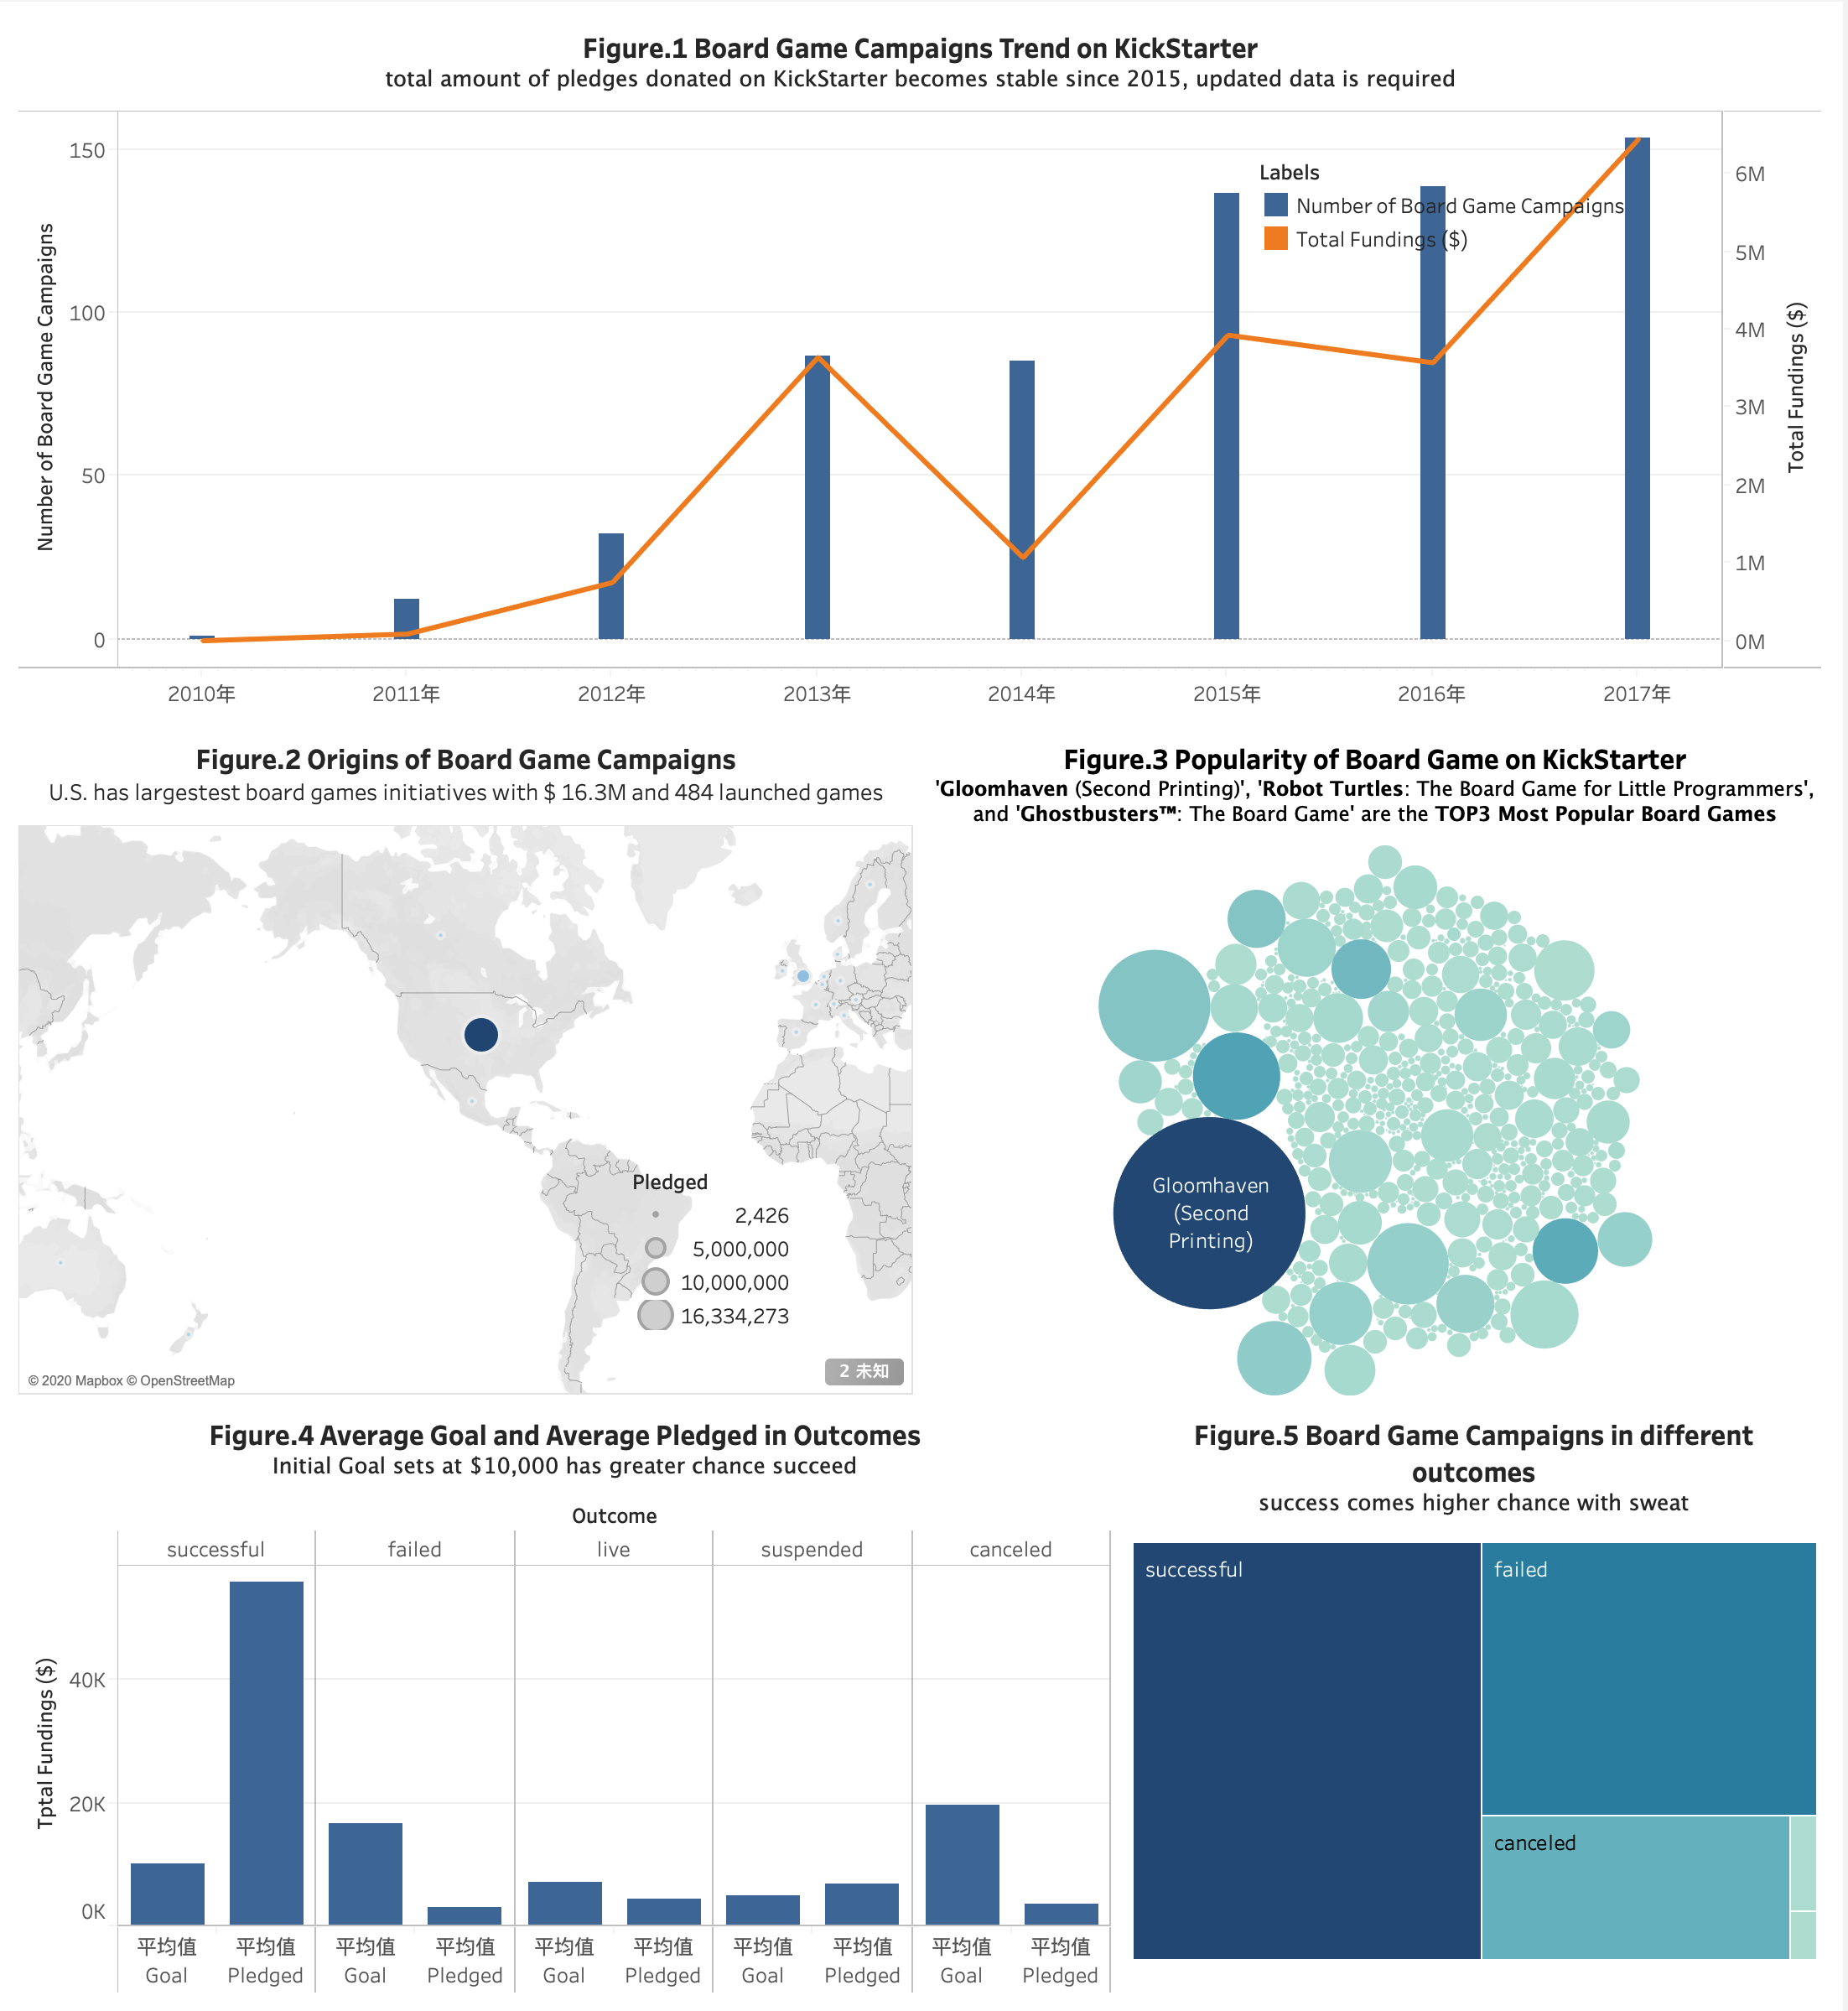

The page's visual inventory and layout, read from the dashboard file:
{"tool":"tableau","page":{"name":"仪表板 1","canvas":[1100,1200],"ordinal":0},"visuals":[{"type":"worksheet","title":"Figure.1 Board Game Campaigns Trend on KickStarter","mark":"Automatic","rows":["Number of Records","pledged"],"cols":["launched"],"box":[8,8,1084,424]},{"type":"legend","title":"Figure.1 Board Game Campaigns Trend on KickStarter","param":"[federated.14u743d0wkjz3q0zyr7fn1nt0qwb].[:Measure Names]","box":[752.4,93,245.3,87]},{"type":"worksheet","title":"Figure.2 Origins of Board Game Campaigns","mark":"Automatic","box":[8,432,542,403]},{"type":"worksheet","title":"Figure.3 Popularity of Board Game on KickStarter","mark":"Circle","box":[550,432,542,403]},{"type":"legend","title":"Figure.2 Origins of Board Game Campaigns","param":"[federated.14u743d0wkjz3q0zyr7fn1nt0qwb].[sum:pledged:qk]","box":[378,695,115,122]},{"type":"worksheet","title":"Figure.4 Average Goal and Average Pledged in Outcomes","mark":"Automatic","cols":["outcome"],"box":[8,835,660,357]},{"type":"worksheet","title":"Figure.5 Board Game Campaigns in different outcomes","mark":"Automatic","box":[668,835,424,357]}]}

Visuals, with their boxes in screenshot pixels (x1, y1, x2, y2), scaled from the page's 1100x1200 canvas onto the 1848x2011 screenshot:
"Figure.1 Board Game Campaigns Trend on KickStarter" worksheet: [13,13,1835,724]
"Figure.1 Board Game Campaigns Trend on KickStarter" legend: [1264,156,1676,302]
"Figure.2 Origins of Board Game Campaigns" worksheet: [13,724,924,1400]
"Figure.3 Popularity of Board Game on KickStarter" worksheet (Circle marks): [924,724,1835,1400]
"Figure.2 Origins of Board Game Campaigns" legend: [635,1165,828,1369]
"Figure.4 Average Goal and Average Pledged in Outcomes" worksheet: [13,1400,1122,1998]
"Figure.5 Board Game Campaigns in different outcomes" worksheet: [1122,1400,1835,1998]
